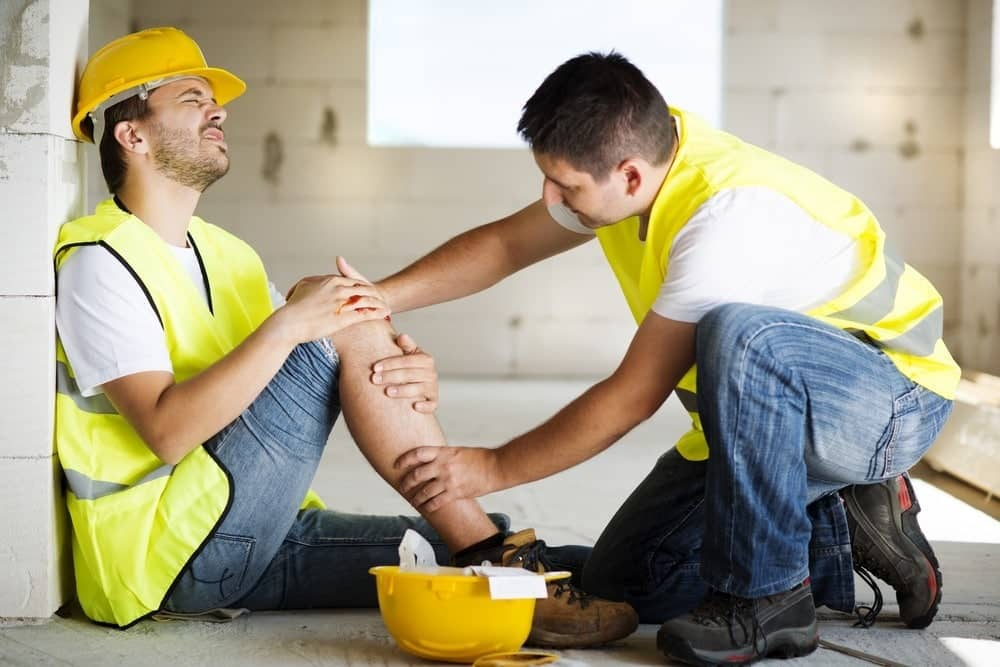fall: (51, 20, 648, 652)
